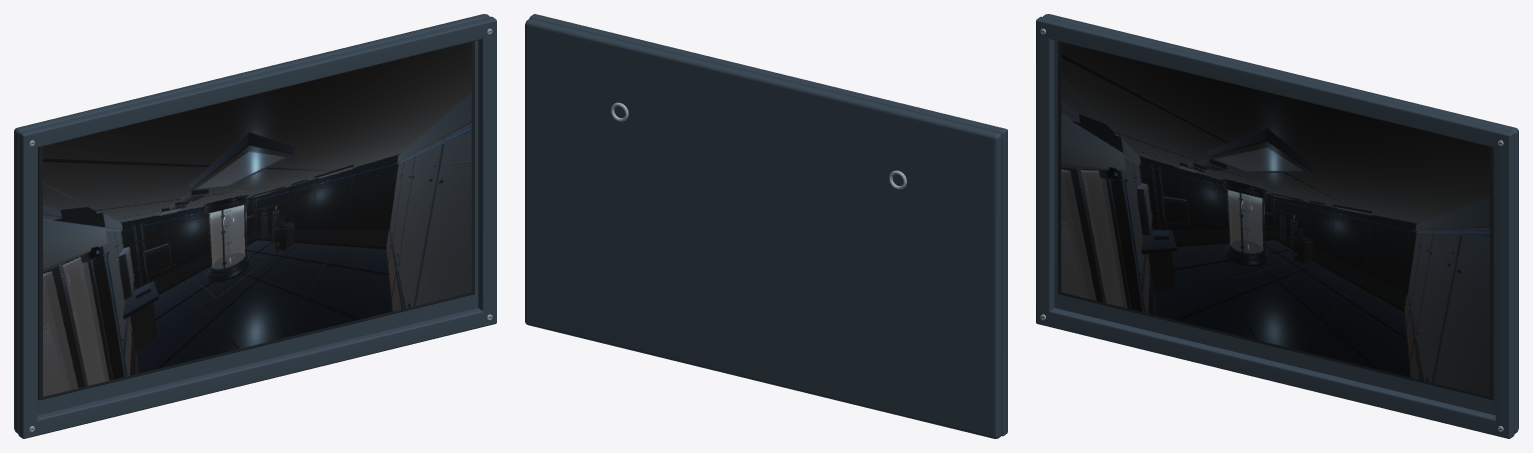
File: CAM_03_WallReference.fbx
3 views of the same model, side by side, from view 1: azimuth 30°, elevation 25°; view 2: azimuth 150°, elevation 25°; view 3: azimuth 330°, elevation 25° (orthographic).
Visible parts, largest first — view 1: CAM_03_WallReference.001; view 2: CAM_03_WallReference.001; view 3: CAM_03_WallReference.001.
Boxes of the visible parts, x1,y1,x2,y2 form: CAM_03_WallReference.001: (14, 14, 496, 438); CAM_03_WallReference.001: (525, 14, 1007, 438); CAM_03_WallReference.001: (1036, 14, 1518, 438).
Size of the model in its own units: 92.1 by 56.5 by 4.9.
